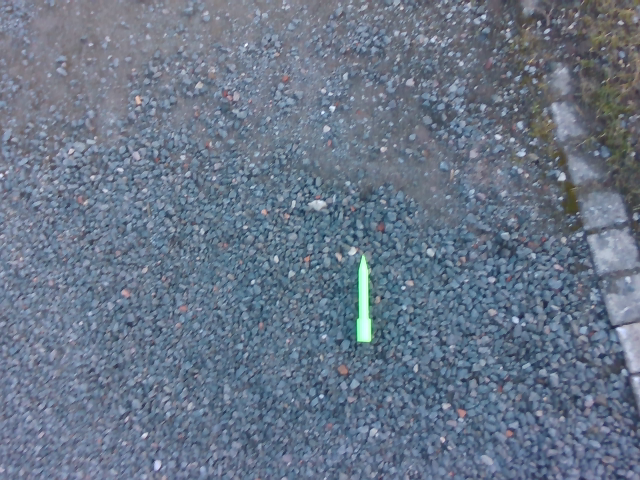Probe: (353, 251, 375, 346)
